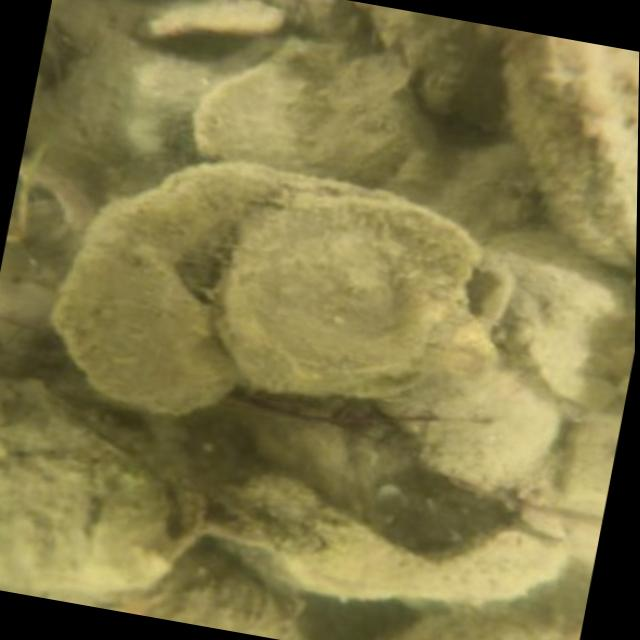Oyster-Closed: (0, 386, 189, 597)
Oyster-Indeterminate: (52, 163, 274, 410), (507, 41, 639, 267), (193, 44, 413, 176), (394, 577, 579, 640), (159, 546, 301, 628)
Oyster-Open: (230, 198, 518, 398)
